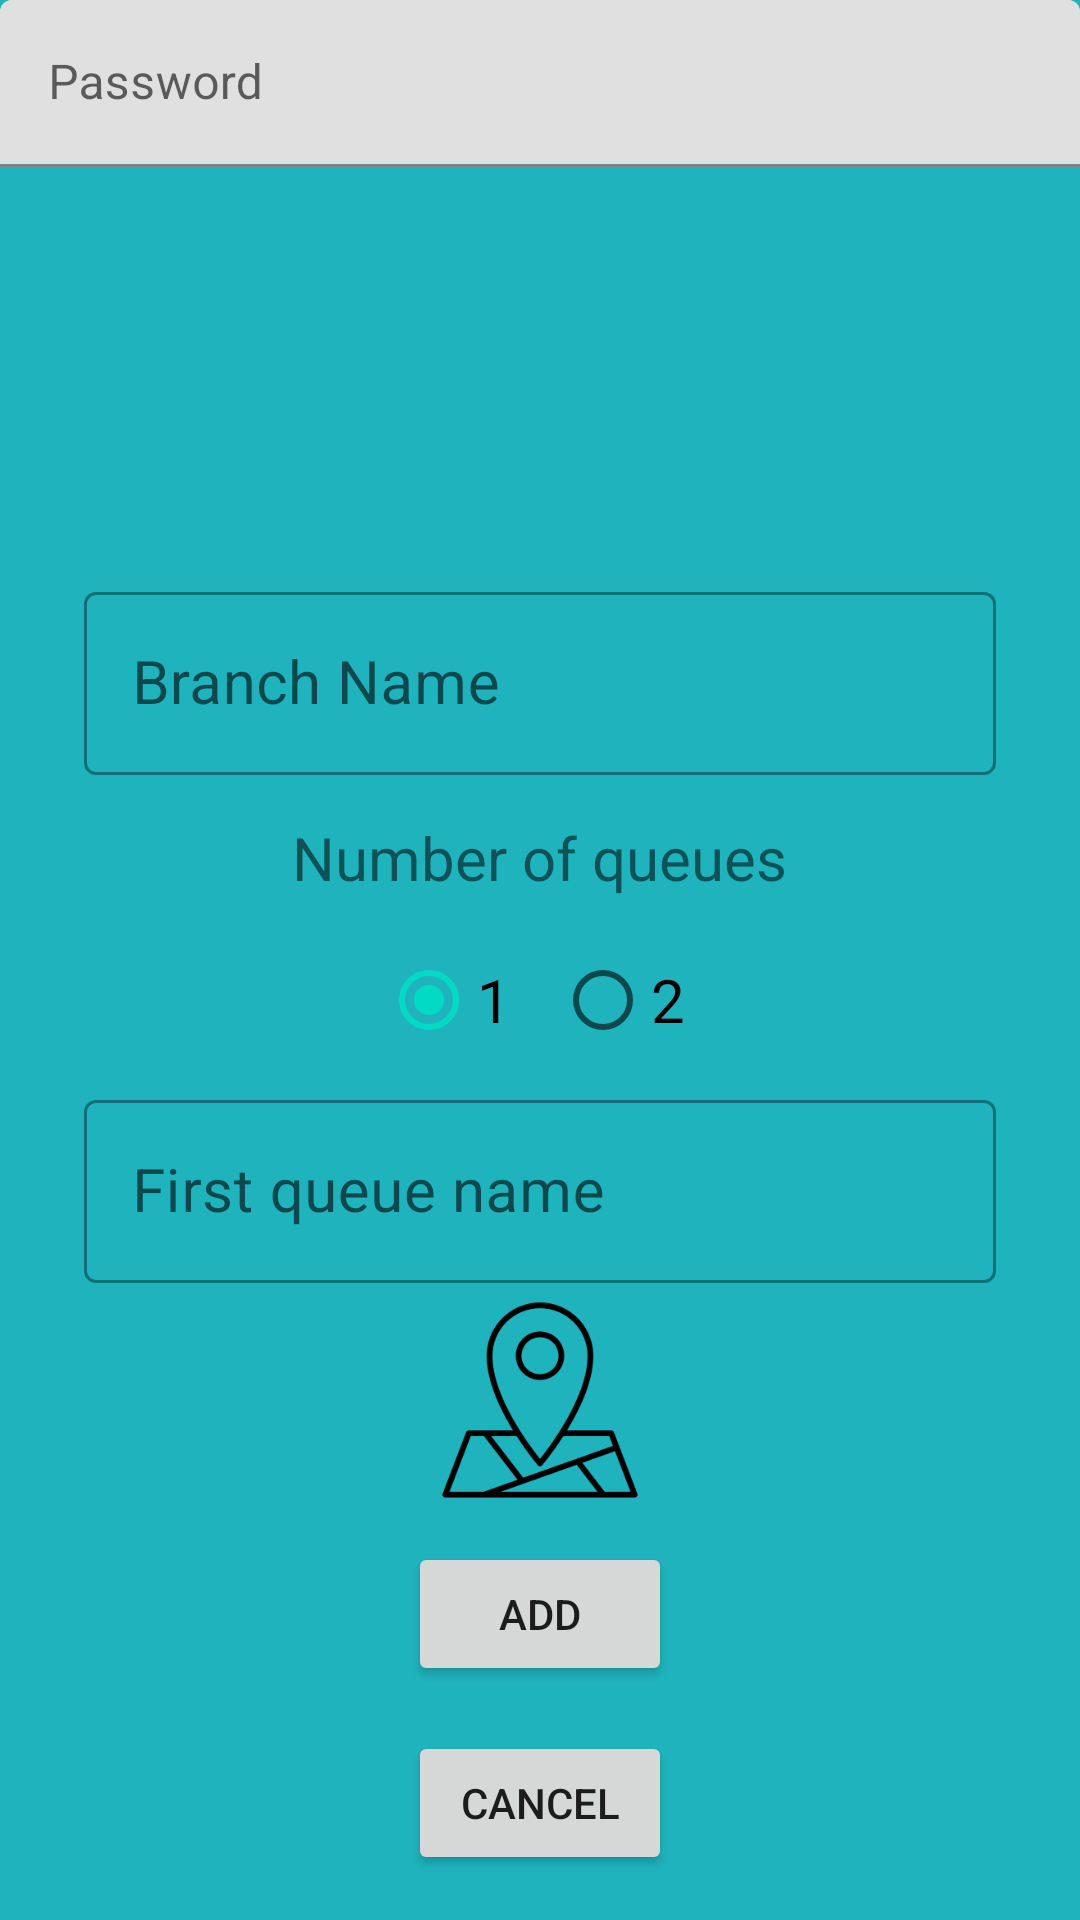

Icons on this 1080px x 1920px Android screen, each with its box as {"left": x1, "top": y1, "right": x2, "bottom": y2}:
location: {"left": 442, "top": 1302, "right": 638, "bottom": 1498}
